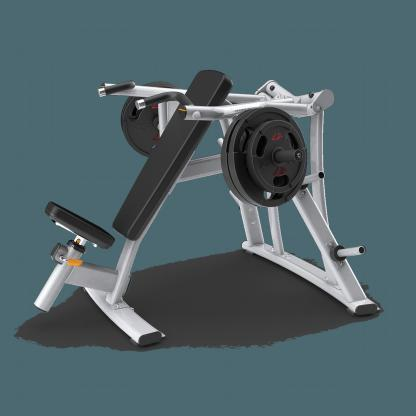shoulder press machine: (27, 47, 387, 370)
